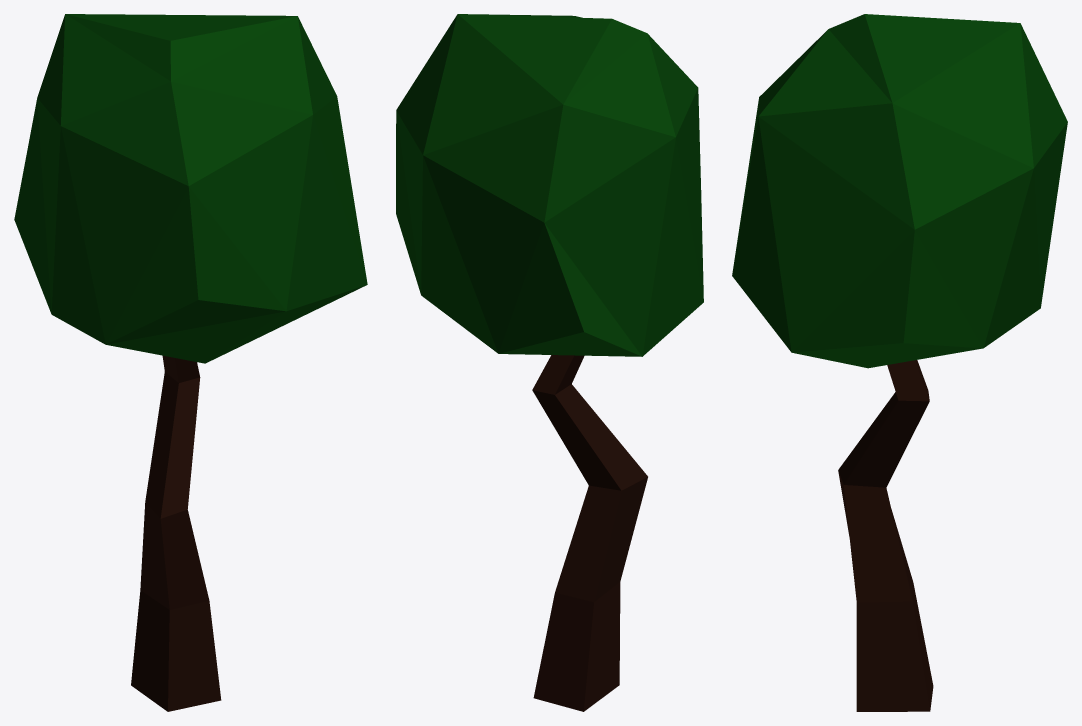
File: tree 1.FBX
The picture shows the model from 3 angles, left to right: view 1: azimuth 30°, elevation 25°; view 2: azimuth 150°, elevation 25°; view 3: azimuth 270°, elevation 25°; orthographic projection.
Visible parts, largest first — view 1: GeoSphere001, Box001; view 2: GeoSphere001, Box001; view 3: GeoSphere001, Box001.
Part boxes in pixels (bbox=[...]): GeoSphere001: bbox=[14, 14, 367, 363]; Box001: bbox=[131, 355, 221, 711]; GeoSphere001: bbox=[396, 14, 703, 356]; Box001: bbox=[532, 355, 647, 711]; GeoSphere001: bbox=[732, 14, 1067, 368]; Box001: bbox=[838, 360, 933, 711].
Bounding box in the file's own units: 32.67 × 73.45 × 33.13.
